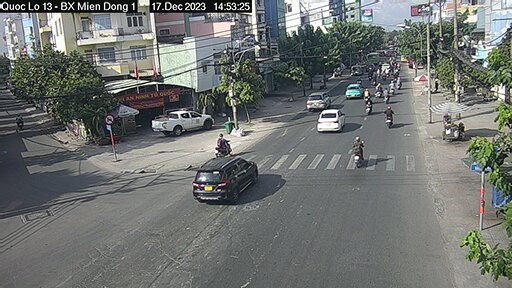car: (187, 161, 273, 196), (151, 112, 218, 138), (301, 87, 339, 115), (319, 102, 344, 142), (344, 81, 366, 108)
motorbike: (344, 135, 368, 164), (213, 128, 233, 154), (363, 98, 379, 119), (384, 105, 397, 127)
